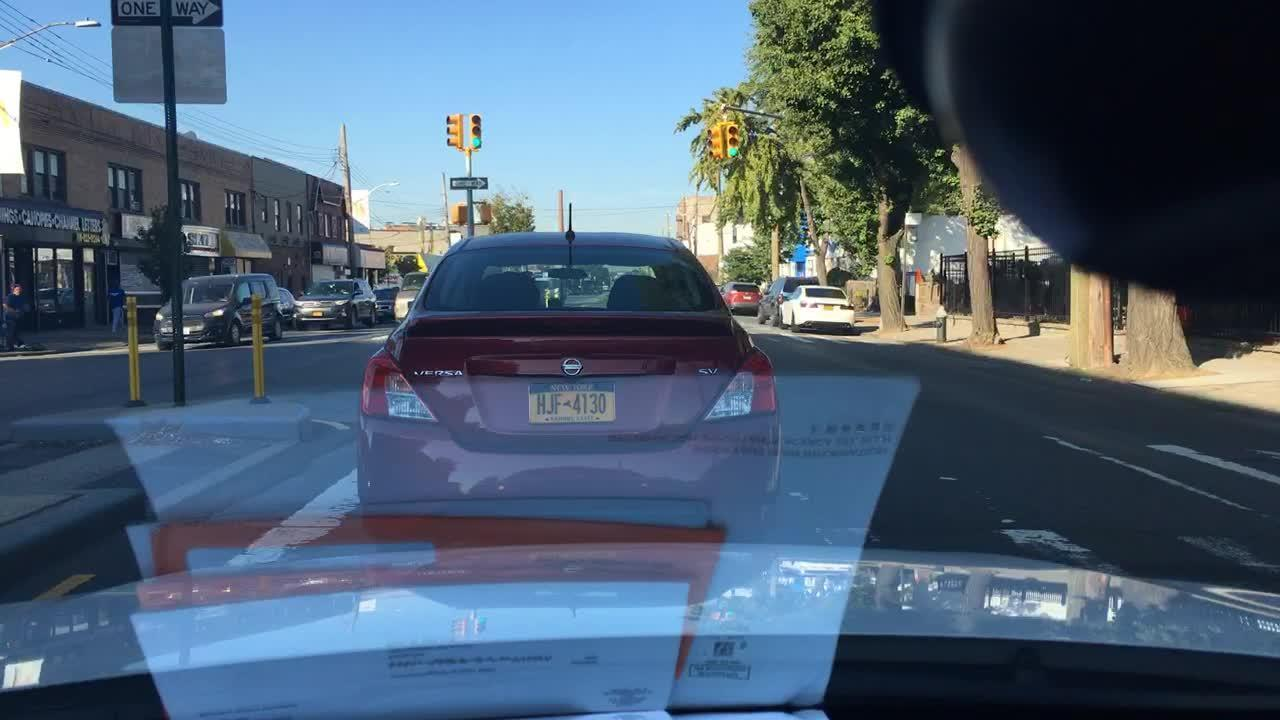Nissan: (556, 350, 590, 382)
